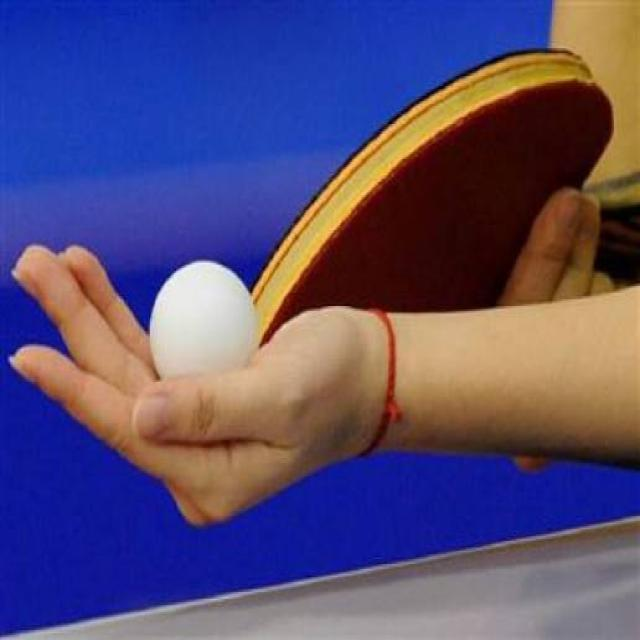TT Racket: (190, 6, 631, 503)
